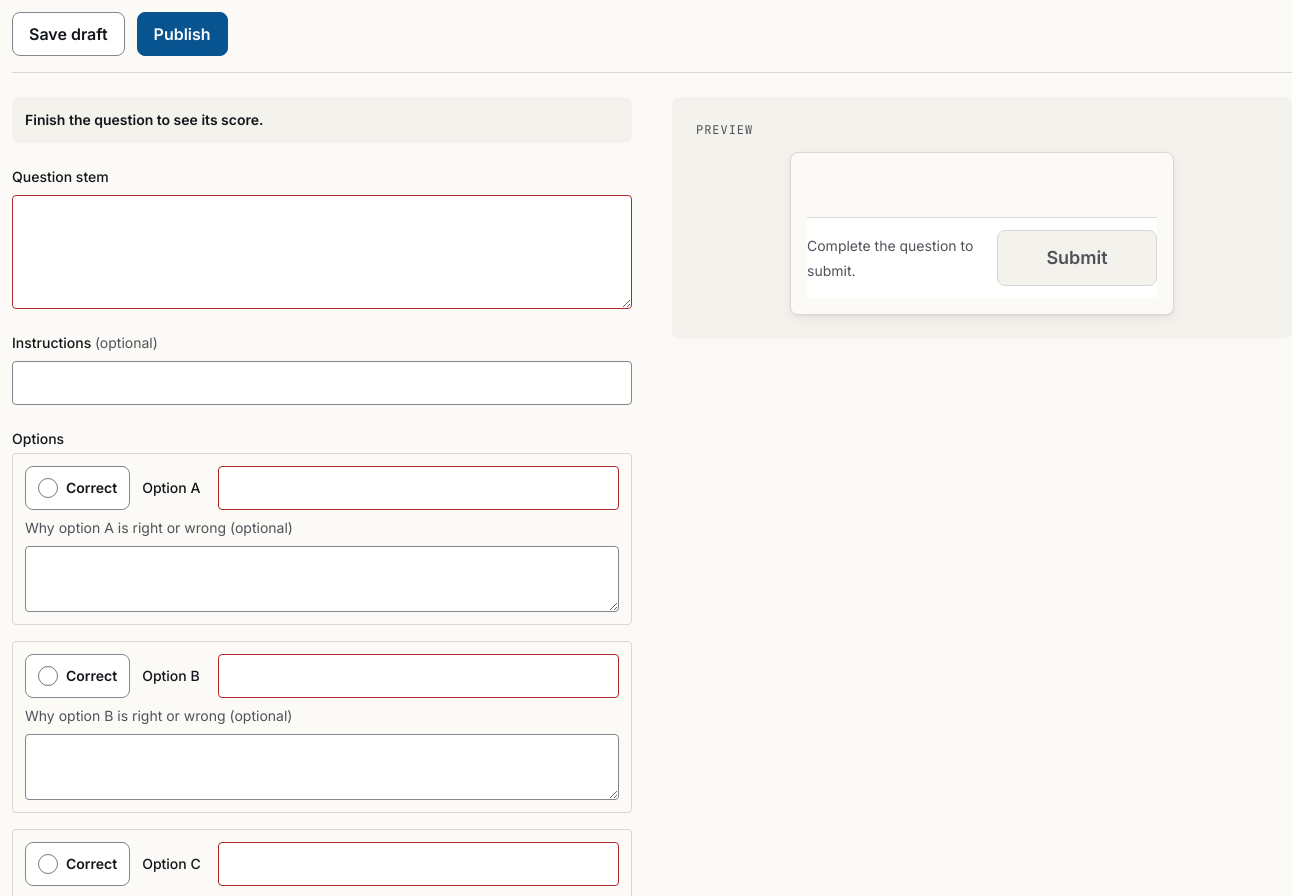
EditorShell when a save or publish request itself fails › shows an error and lets the author try again when Save draft rejects
Click the button "Save draft".
click(68, 34)  # box [12, 12, 125, 56]
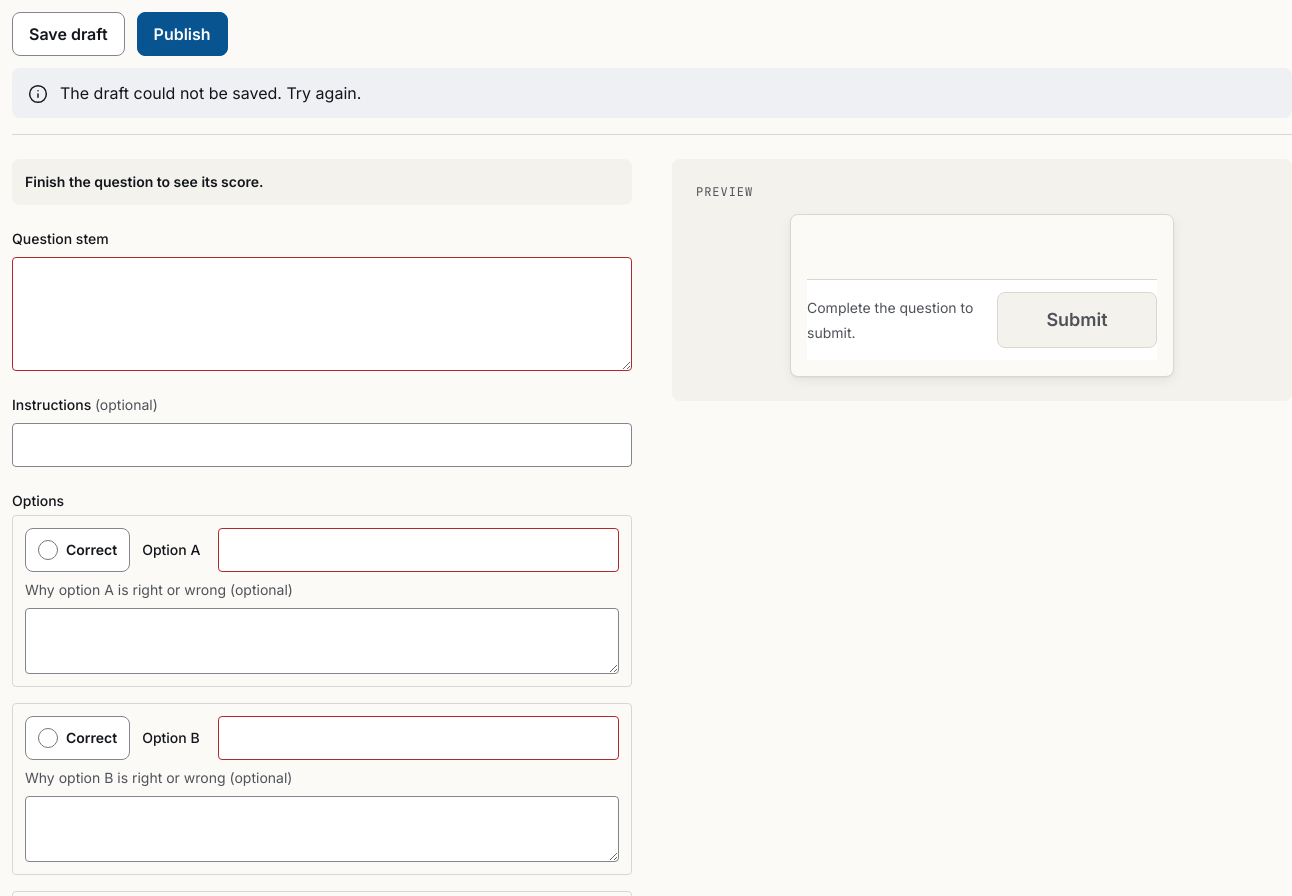
expect the message reads "The draft could not be saved. Try again.": met, box [60, 83, 361, 103]
Click the button "Save draft".
click(68, 34)  # box [12, 12, 125, 56]
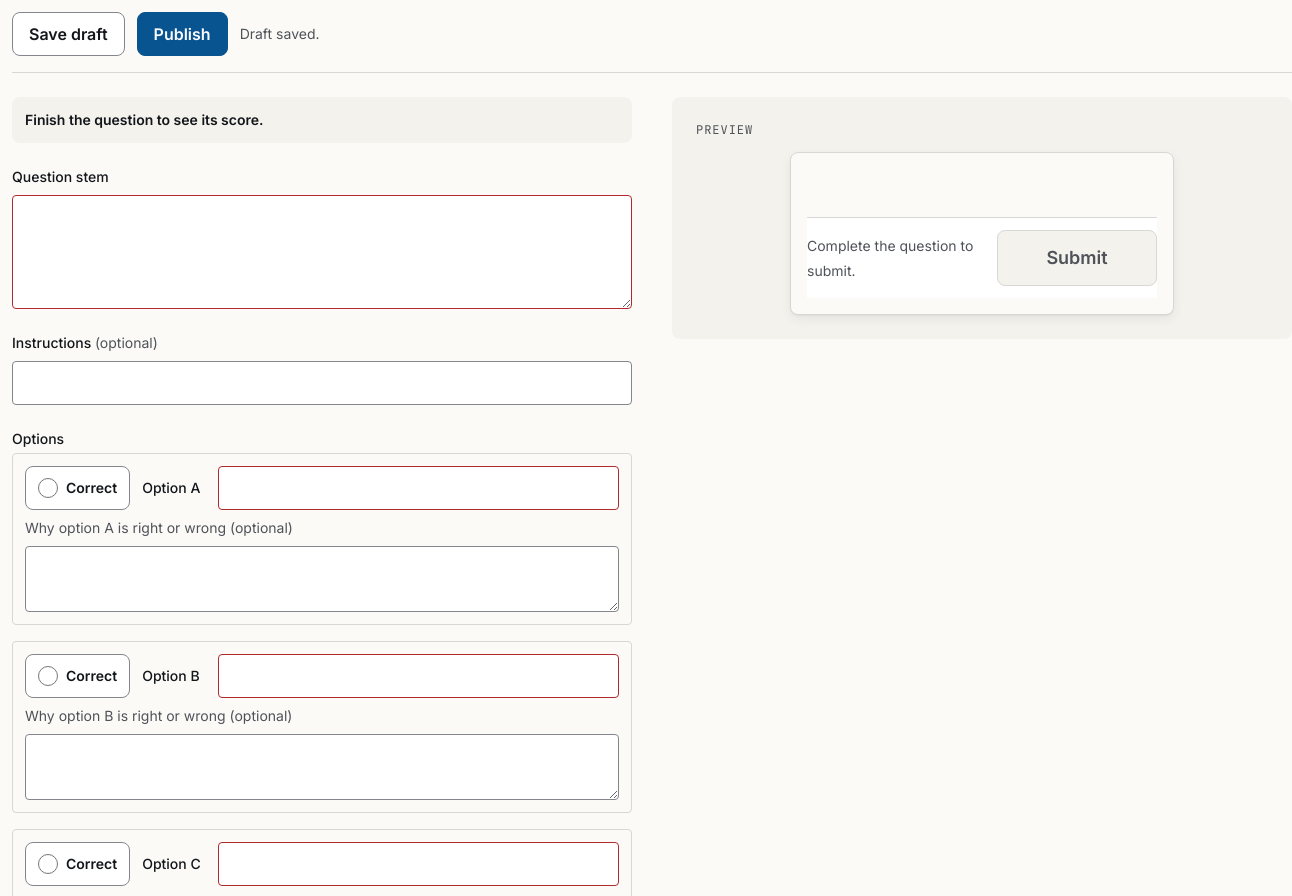
expect the message reads "Draft saved.": met, box [240, 25, 320, 42]
